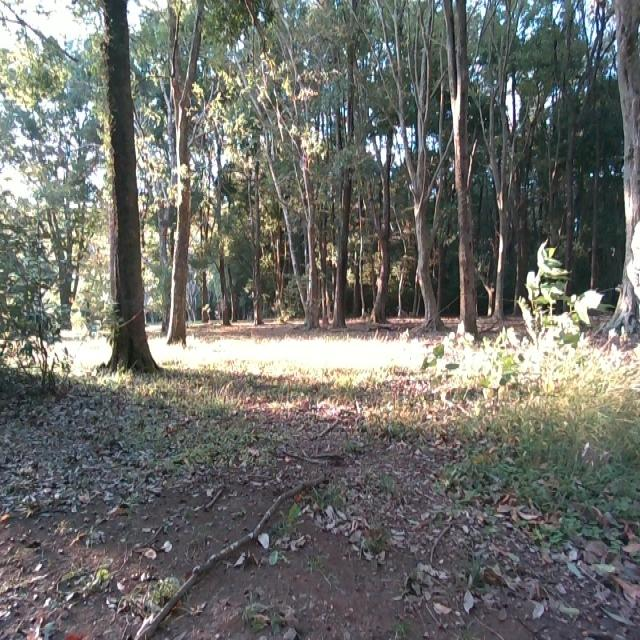bush: (479, 239, 639, 524), (0, 196, 66, 420)
tree: (87, 0, 151, 371), (445, 0, 483, 339), (608, 0, 639, 349), (405, 80, 444, 329), (332, 22, 352, 316), (171, 1, 188, 345), (300, 156, 320, 321), (372, 153, 387, 329)
